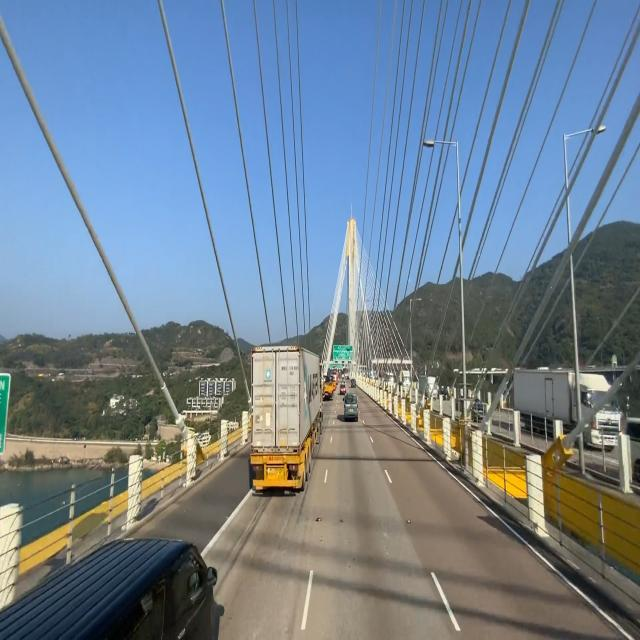Car: (251, 345, 323, 492), (344, 389, 361, 424)
